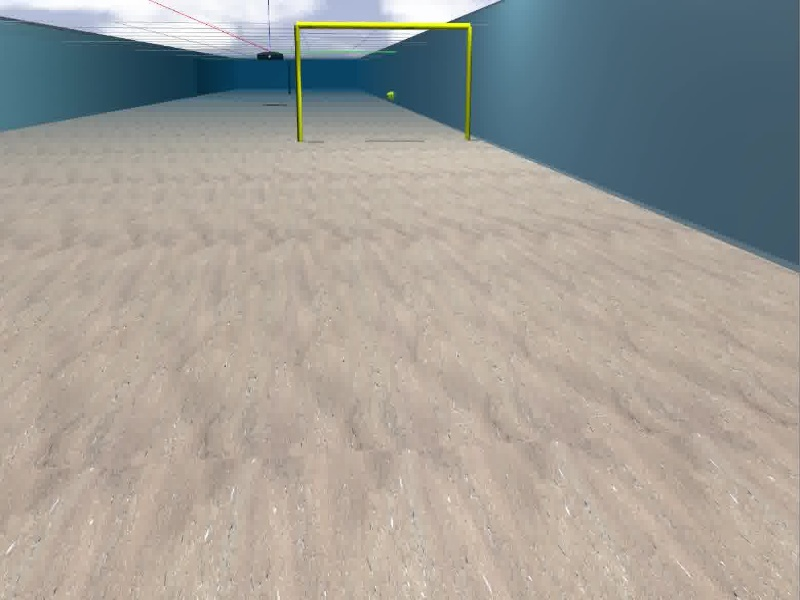gate: (295, 19, 473, 143)
